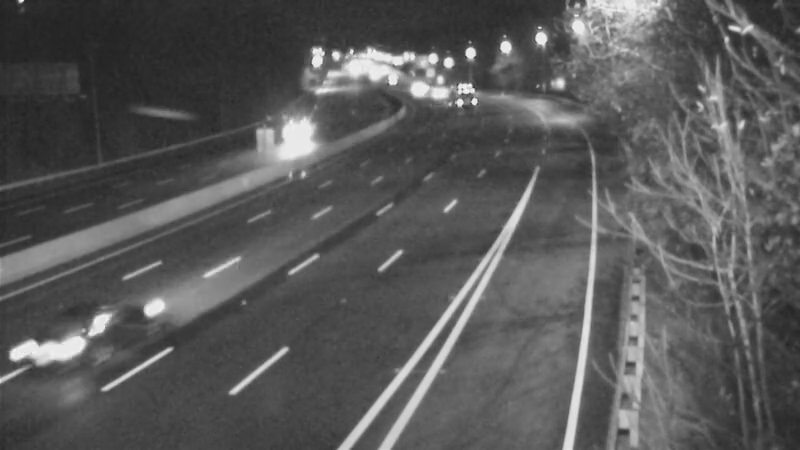vehicle: (27, 278, 137, 388), (391, 63, 441, 113), (412, 68, 462, 118), (441, 73, 491, 123), (275, 110, 325, 160)
